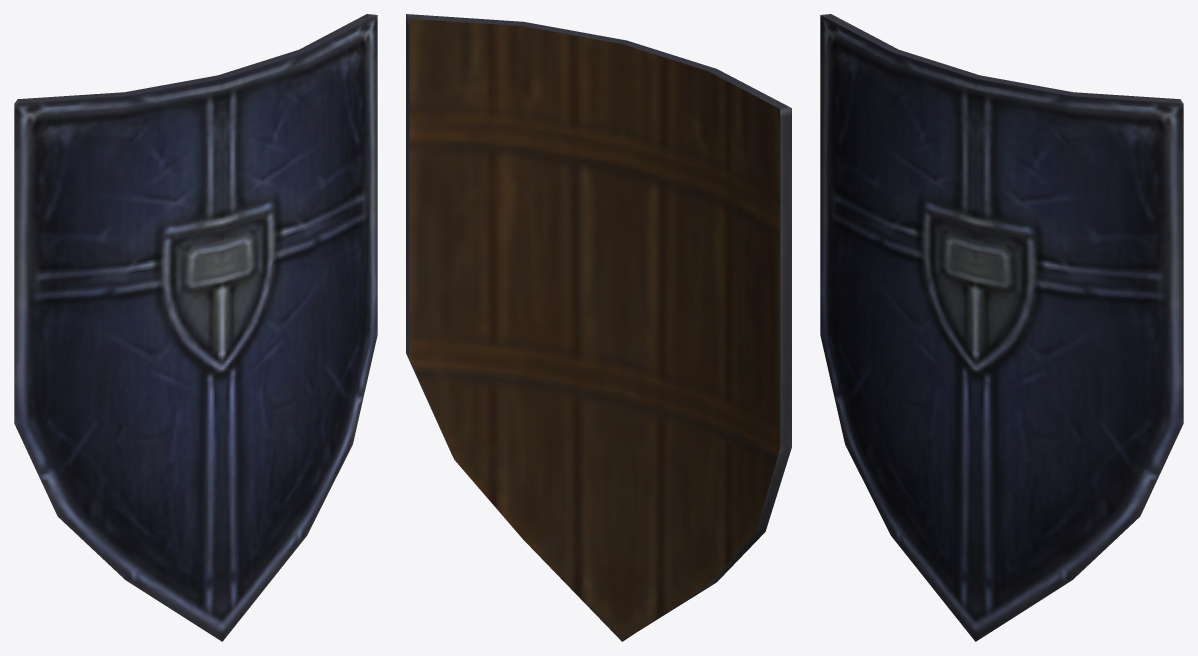
Rendered from Shield06.FBX.
The picture shows the model from 3 angles, left to right: view 1: azimuth 30°, elevation 25°; view 2: azimuth 150°, elevation 25°; view 3: azimuth 330°, elevation 25°; orthographic projection. The views are drawn at different scales.
Parts seen in each view (by area): view 1: Shield06; view 2: Shield06; view 3: Shield06.
Boxes of the visible parts, x1,y1,x2,y2 form: Shield06: (14,14,377,641); Shield06: (406,14,791,641); Shield06: (820,14,1183,641).
Bounding box in the file's own units: 55.34 × 81.96 × 7.96.
